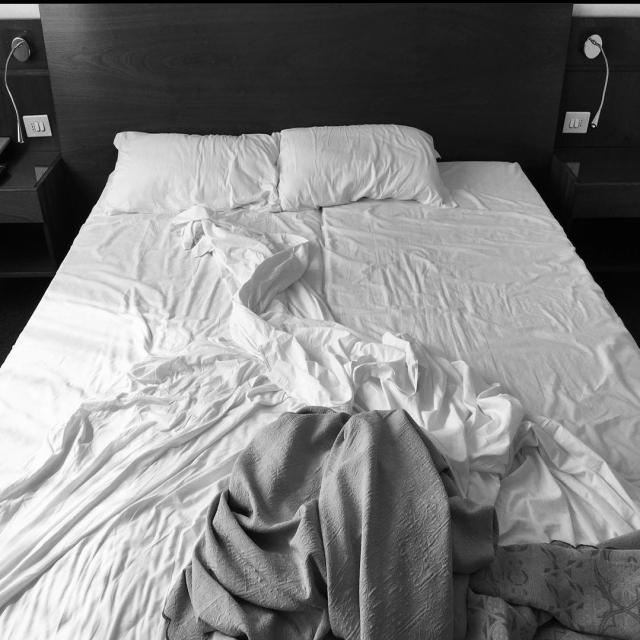bed: (12, 97, 638, 640)
